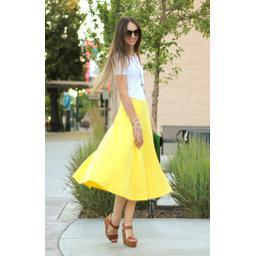Tshirt: (113, 52, 144, 99)
skirt: (72, 102, 174, 202)
